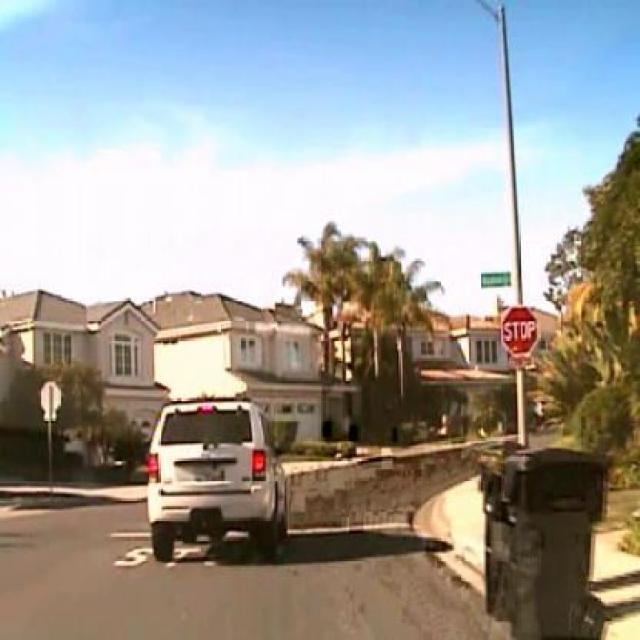traffic_sign: (499, 305, 539, 358)
